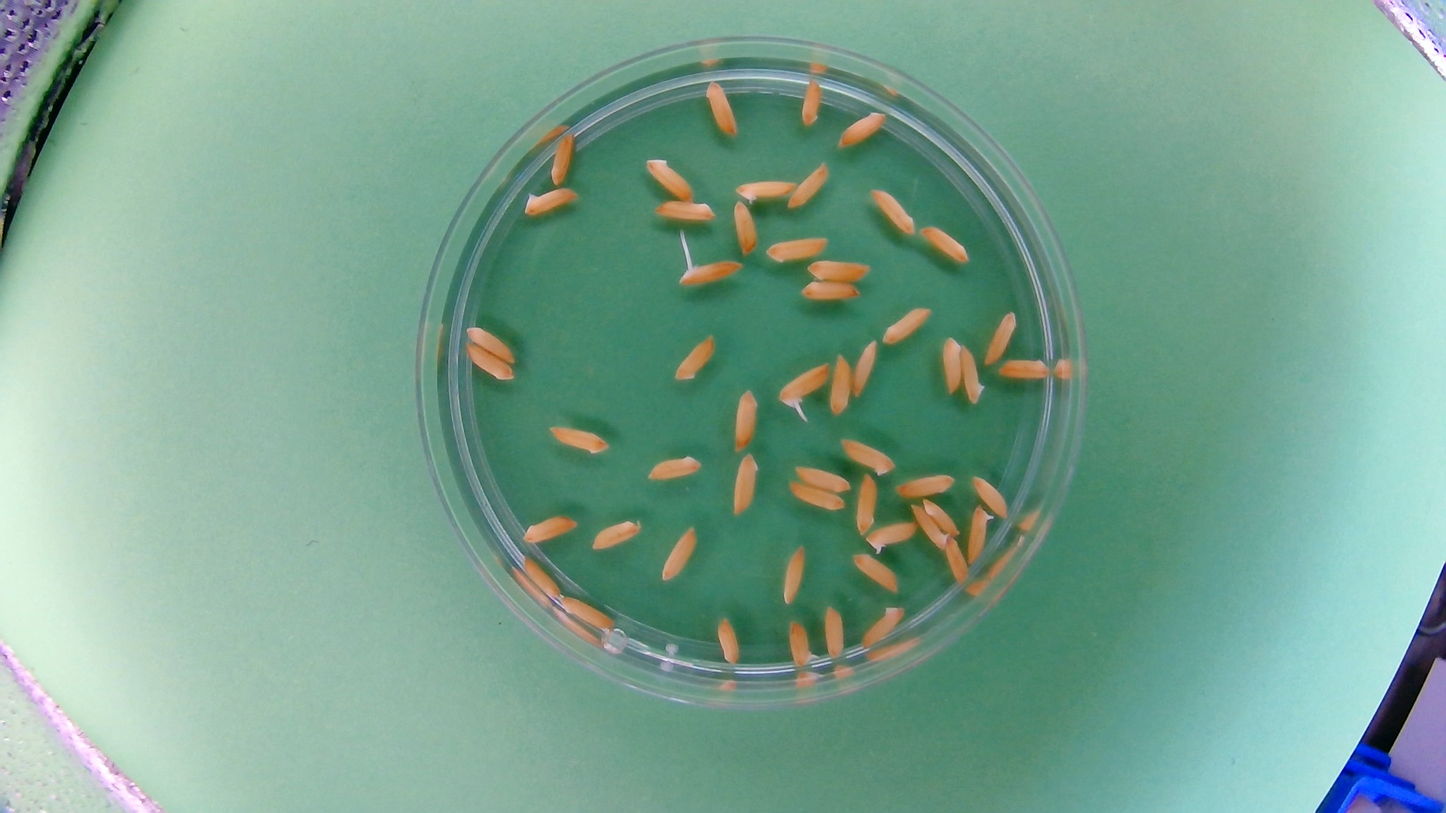no: (640, 153, 697, 202), (857, 601, 908, 651), (868, 184, 917, 236), (918, 220, 972, 266), (657, 524, 699, 583), (838, 435, 896, 477), (784, 159, 829, 212), (702, 77, 741, 138), (834, 107, 889, 150), (880, 303, 935, 346), (850, 550, 901, 596), (672, 332, 718, 383), (560, 593, 618, 632), (981, 309, 1019, 367), (462, 322, 517, 362), (763, 233, 831, 265), (786, 479, 848, 513), (968, 471, 1011, 520), (462, 343, 517, 381), (587, 516, 642, 553), (548, 424, 611, 456), (730, 451, 761, 516), (520, 185, 581, 218), (909, 501, 949, 551), (521, 553, 563, 600), (520, 512, 578, 546), (650, 196, 720, 224), (792, 461, 853, 493), (804, 255, 873, 283), (891, 469, 957, 498), (731, 387, 760, 453), (850, 337, 879, 401), (779, 542, 808, 606), (644, 452, 705, 482), (959, 342, 987, 407), (996, 353, 1054, 384), (732, 175, 798, 202), (852, 470, 879, 535), (798, 276, 863, 303), (547, 129, 576, 187), (920, 495, 961, 536), (730, 197, 758, 257), (828, 351, 853, 417), (942, 534, 970, 588), (939, 334, 963, 395), (714, 614, 742, 666), (798, 77, 825, 129), (822, 604, 846, 662)
yes: (777, 359, 831, 408), (676, 256, 743, 287), (865, 519, 920, 554), (967, 504, 996, 567), (786, 619, 818, 669)
